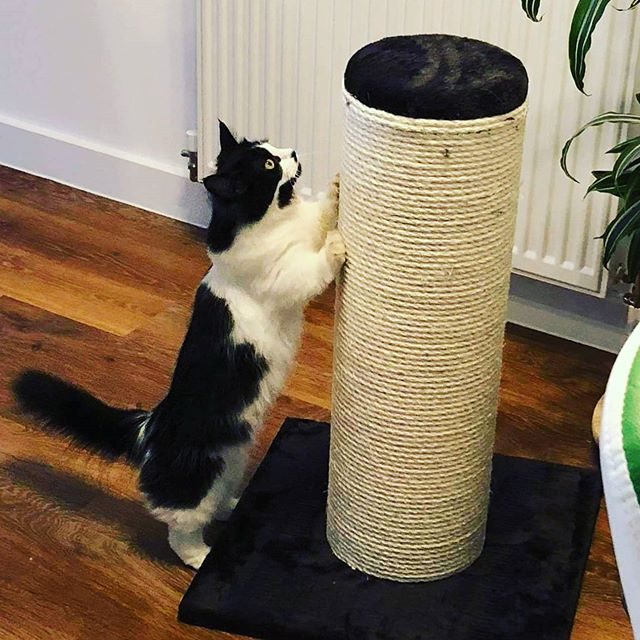cat: (197, 119, 307, 228)
